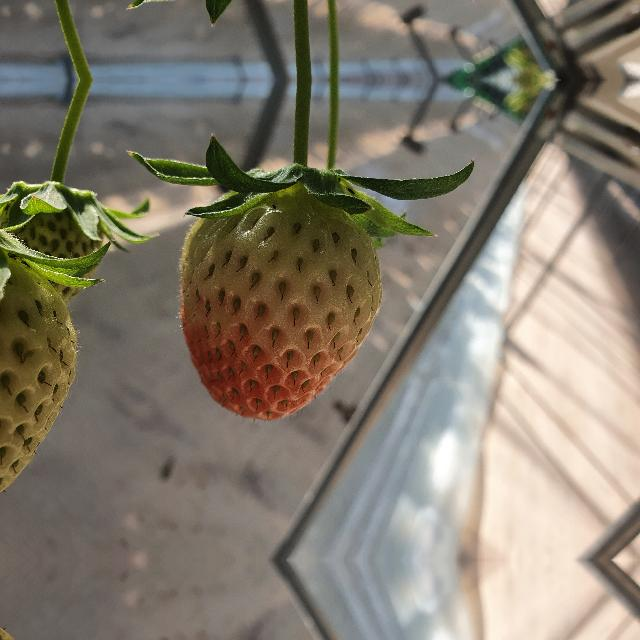Health_75: (180, 191, 382, 421)
